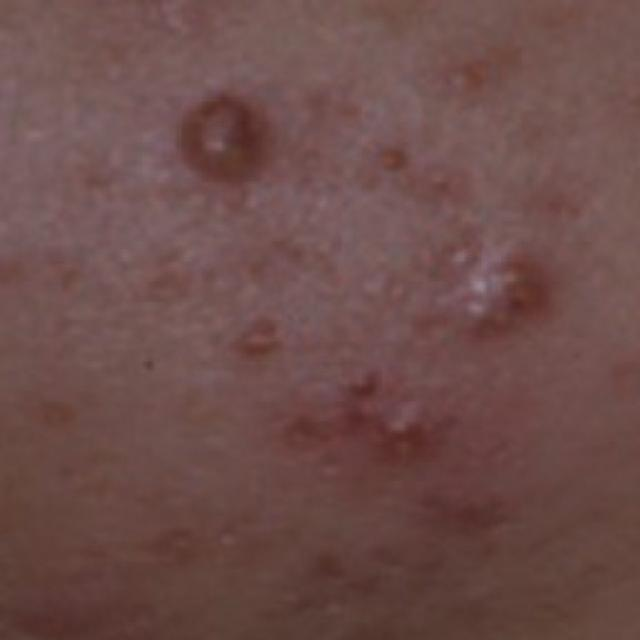acne: (204, 306, 546, 538), (393, 214, 584, 354), (146, 68, 286, 215)
